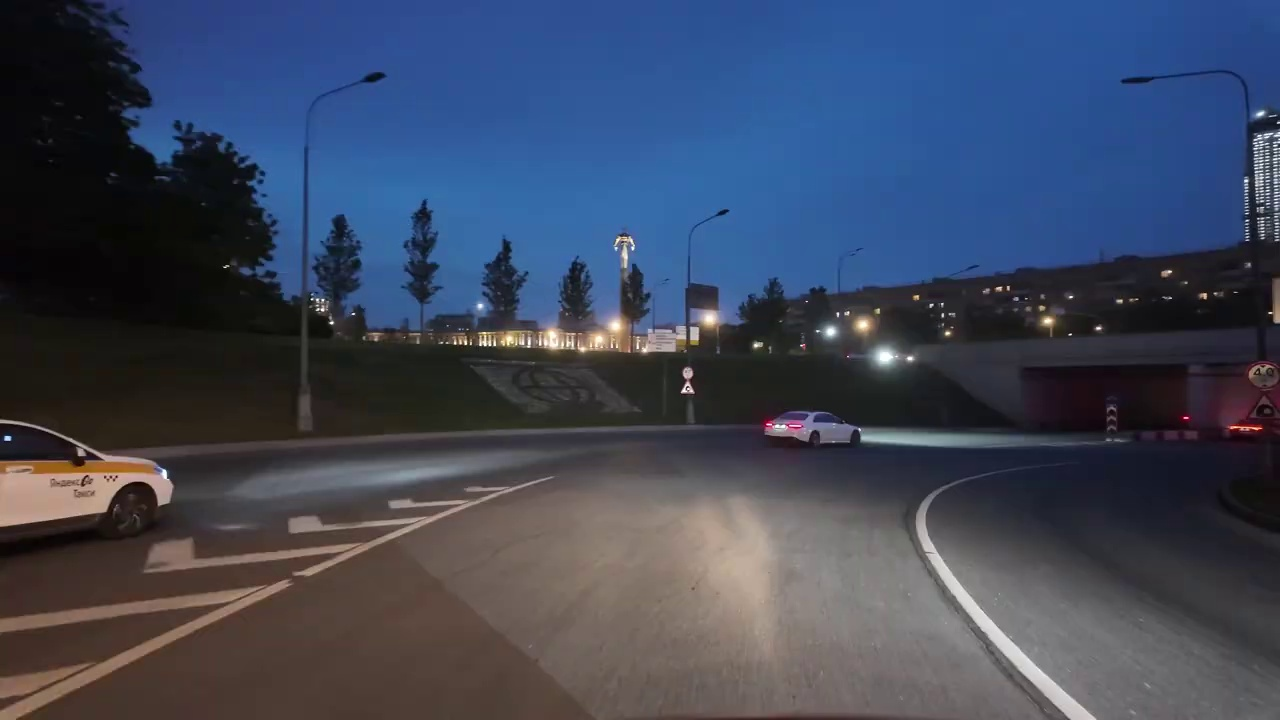apagada: (1114, 68, 1164, 90), (359, 67, 387, 90), (710, 203, 732, 222)
